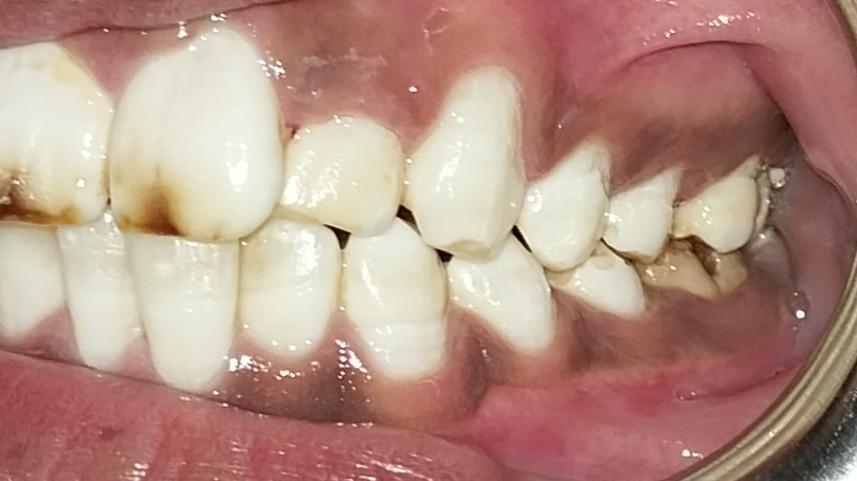D: (632, 234, 752, 300)
